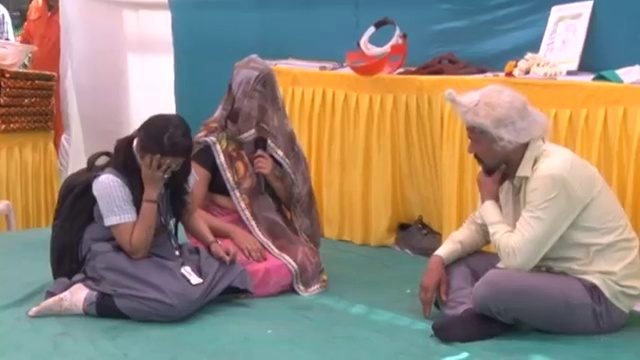helmet: (0, 39, 38, 71)
helmet_off: (450, 90, 544, 180), (122, 110, 194, 198), (223, 58, 280, 131)
person: (414, 88, 640, 346), (31, 115, 233, 318), (184, 60, 321, 301), (18, 2, 59, 72)
